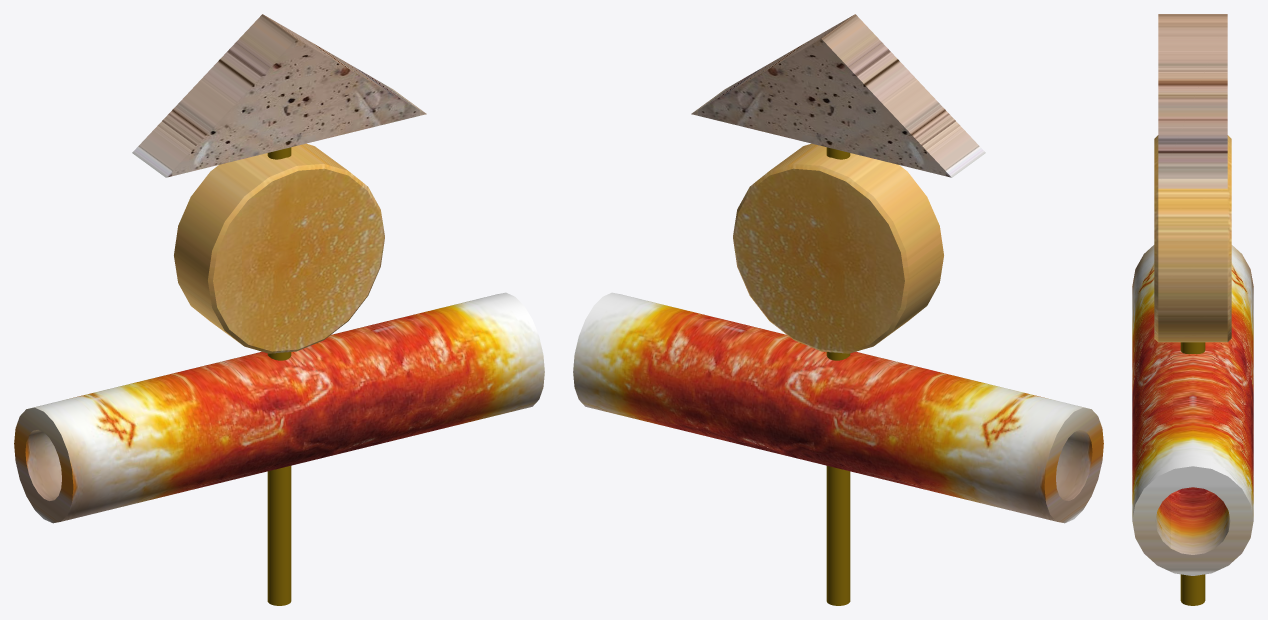
File: oden.fbx
3 renders of one model, left to right at view 1: azimuth 30°, elevation 25°; view 2: azimuth 150°, elevation 25°; view 3: azimuth 270°, elevation 25°, orthographic. The views are drawn at different scales.
Parts seen in each view (by area): view 1: pCylinder6; view 2: pCylinder6; view 3: pCylinder6.
Part boxes in pixels (x1=…): pCylinder6: x1=14, y1=14, x2=544, y2=605; pCylinder6: x1=573, y1=14, x2=1103, y2=605; pCylinder6: x1=1132, y1=14, x2=1253, y2=605.
Size of the model in its own units: 5.32 by 6.19 by 1.16.
2 materials, 1 textured.
